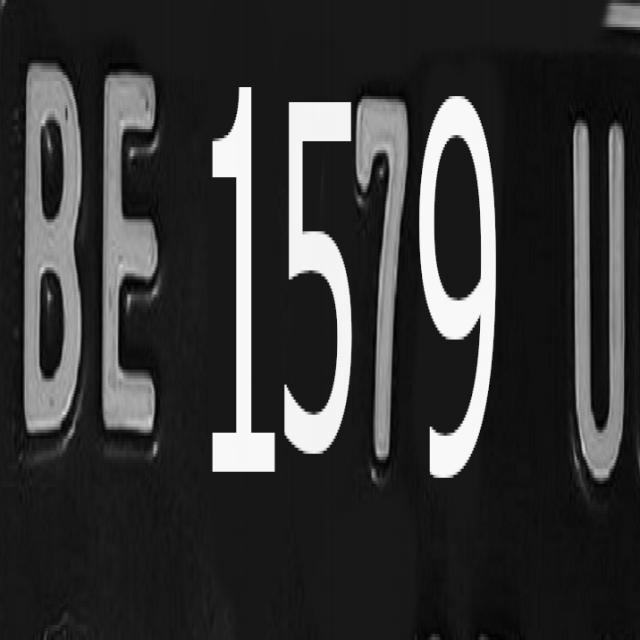1: (200, 75, 282, 492)
5: (280, 90, 350, 462)
7: (350, 85, 410, 470)
9: (416, 78, 494, 482)
B: (10, 54, 89, 460)
E: (93, 57, 175, 466)
U: (548, 105, 640, 502)
